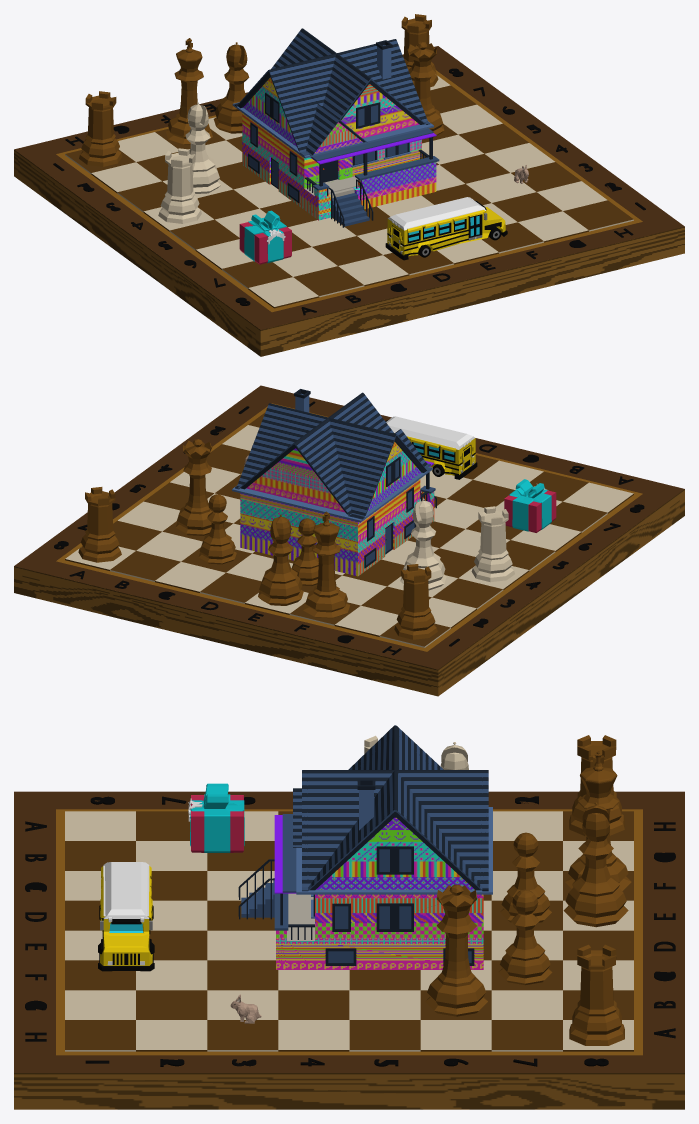
3 views of the same model, one above another, from view 1: azimuth 30°, elevation 25°; view 2: azimuth 150°, elevation 25°; view 3: azimuth 270°, elevation 25° (orthographic). The views are drawn at different scales.
Visible parts, largest first — view 1: Cube.002, Cube.676, VEHICLES_SCHOOL_BUS, OBJRANDOM_GIANT_PRESENT; view 2: Cube.002, Cube.676, VEHICLES_SCHOOL_BUS, OBJRANDOM_GIANT_PRESENT; view 3: Cube.002, Cube.676, VEHICLES_SCHOOL_BUS, OBJRANDOM_GIANT_PRESENT.
Part boxes in pixels (x1,y1,x2,y2): Cube.002: (14,14,684,356); Cube.676: (232,28,439,227); VEHICLES_SCHOOL_BUS: (385,197,507,260); OBJRANDOM_GIANT_PRESENT: (239,210,291,264); Cube.002: (14,385,684,696); Cube.676: (232,389,436,576); VEHICLES_SCHOOL_BUS: (385,416,477,479); OBJRANDOM_GIANT_PRESENT: (504,479,556,532); Cube.002: (14,735,684,1109); Cube.676: (238,725,492,969); VEHICLES_SCHOOL_BUS: (98,862,154,971); OBJRANDOM_GIANT_PRESENT: (188,783,244,852).
Size of the model in its own units: 3981 by 1492 by 4012.
Materials: 40 (6 with a texture image).
